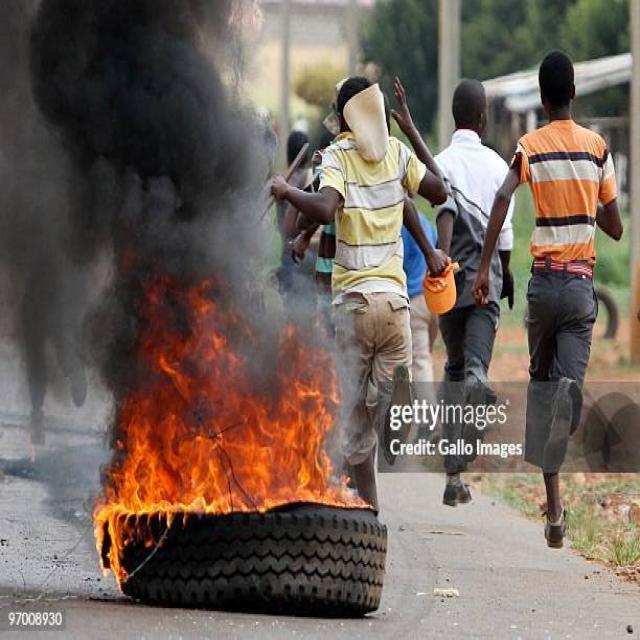fire: (103, 262, 341, 526), (93, 504, 126, 591)
